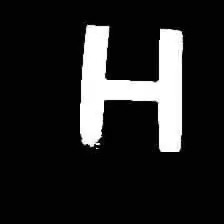LTR_H: (63, 8, 188, 161)
